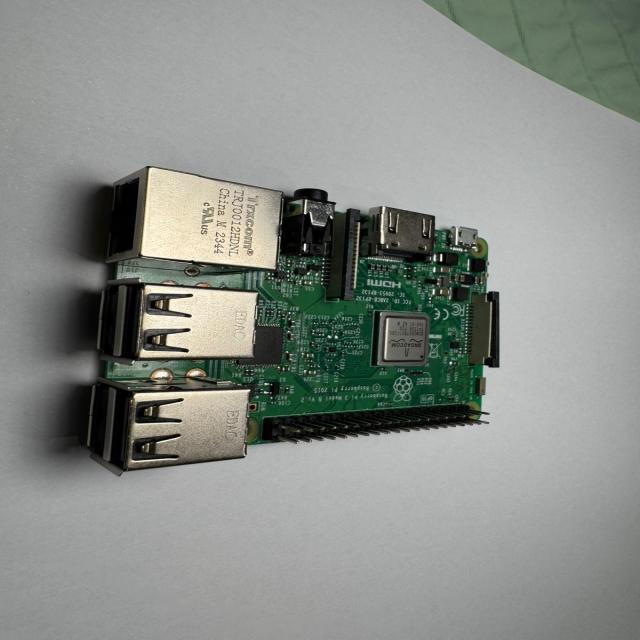CPU: (374, 312, 431, 368)
Ethernet: (113, 167, 283, 273)
GPIO: (256, 402, 494, 444)
HDMI: (372, 205, 439, 265)
RAM-3: (232, 323, 286, 367)
Raspberry: (78, 167, 501, 476)
